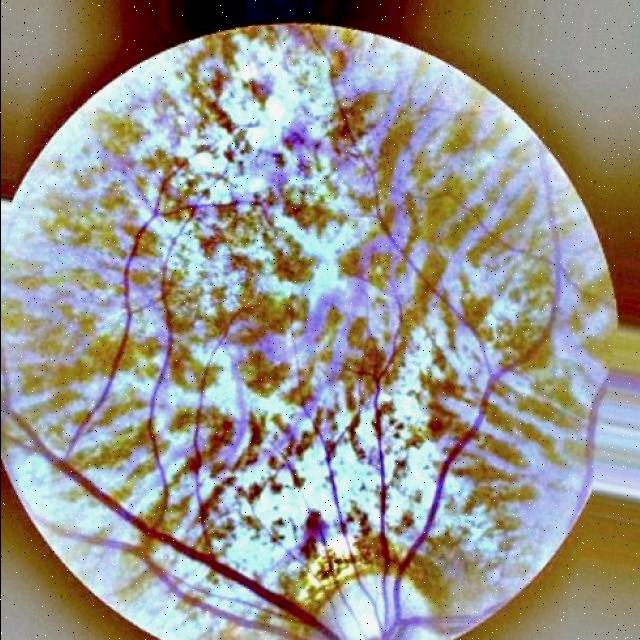Nerves: (0, 168, 504, 640)
Optic Disk: (325, 576, 512, 640)
